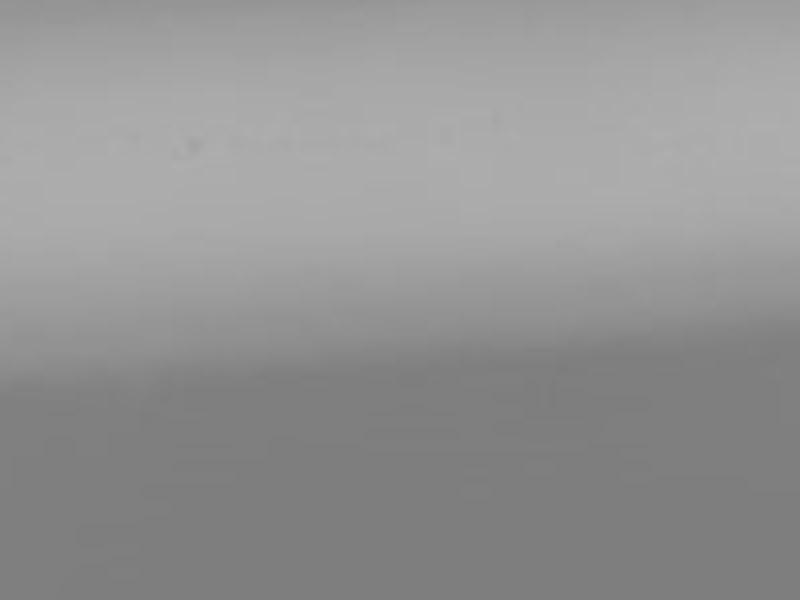defect: (184, 131, 204, 156)
